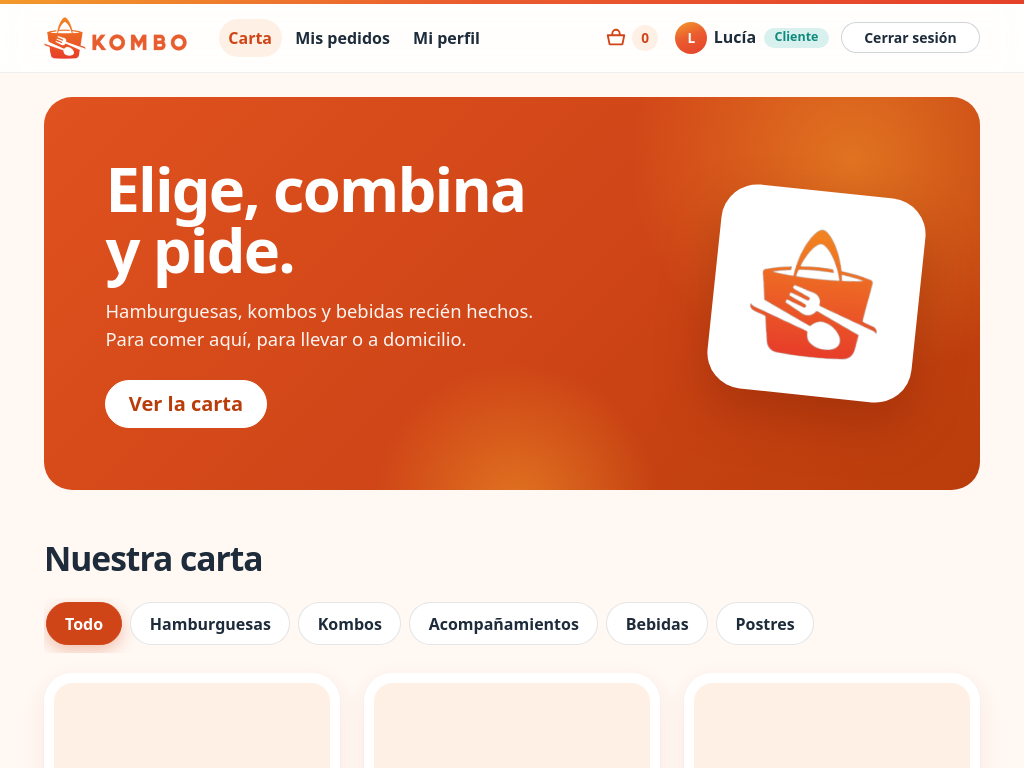
Test: AppNavbar › logs out and shows a confirmation
Click the button "Cerrar sesión".
click(910, 38)  # box top-left (841, 22), bottom-right (980, 53)
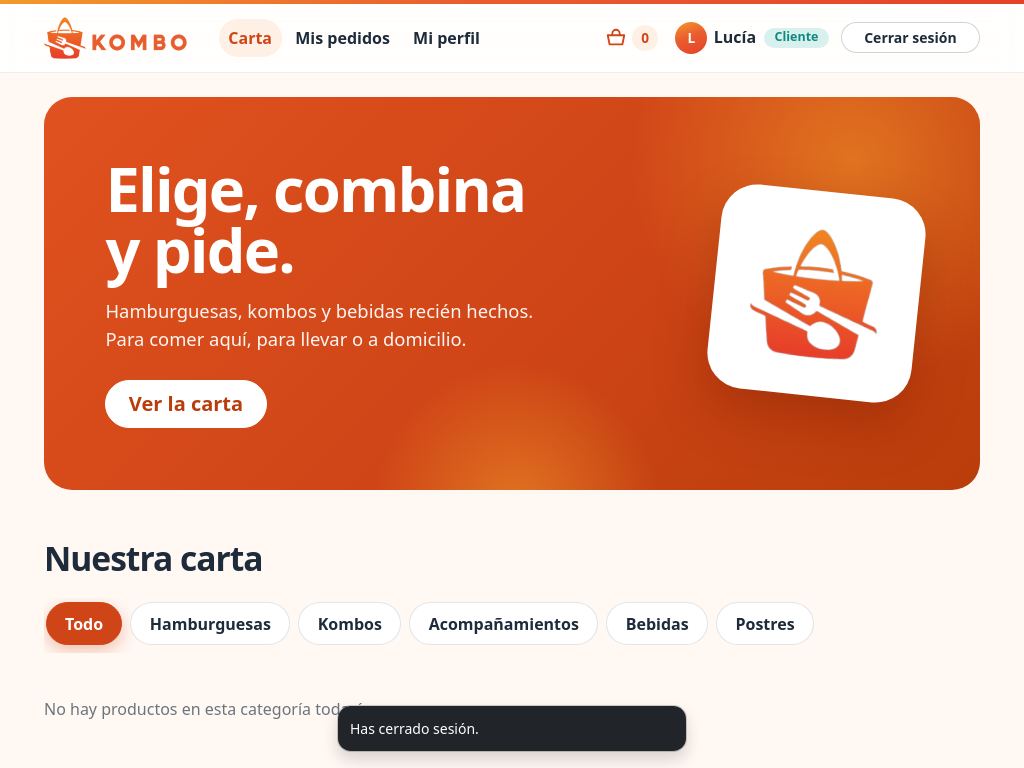
Expected: the text "Has cerrado sesión." is shown, top-left (350, 719), bottom-right (479, 738)
